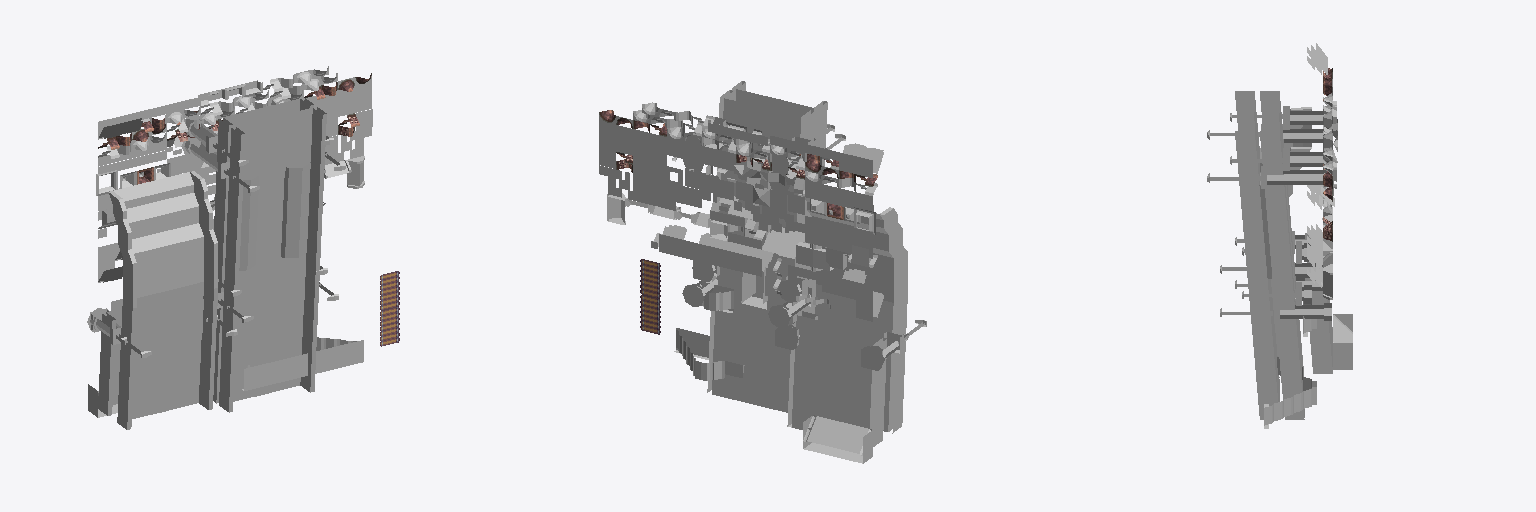
3 renders of one model, left to right at view 1: azimuth 30°, elevation 25°; view 2: azimuth 150°, elevation 25°; view 3: azimuth 270°, elevation 25°, orthographic.
Visible parts, largest first — view 1: map; view 2: map; view 3: map.
Part boxes in pixels (x1,y1,x2,y2): map: (87, 66, 399, 429); map: (599, 81, 926, 463); map: (1207, 43, 1352, 428).
Size of the model in its own units: 33.3 by 33.25 by 14.69.
Materials: 87 (3 with a texture image).